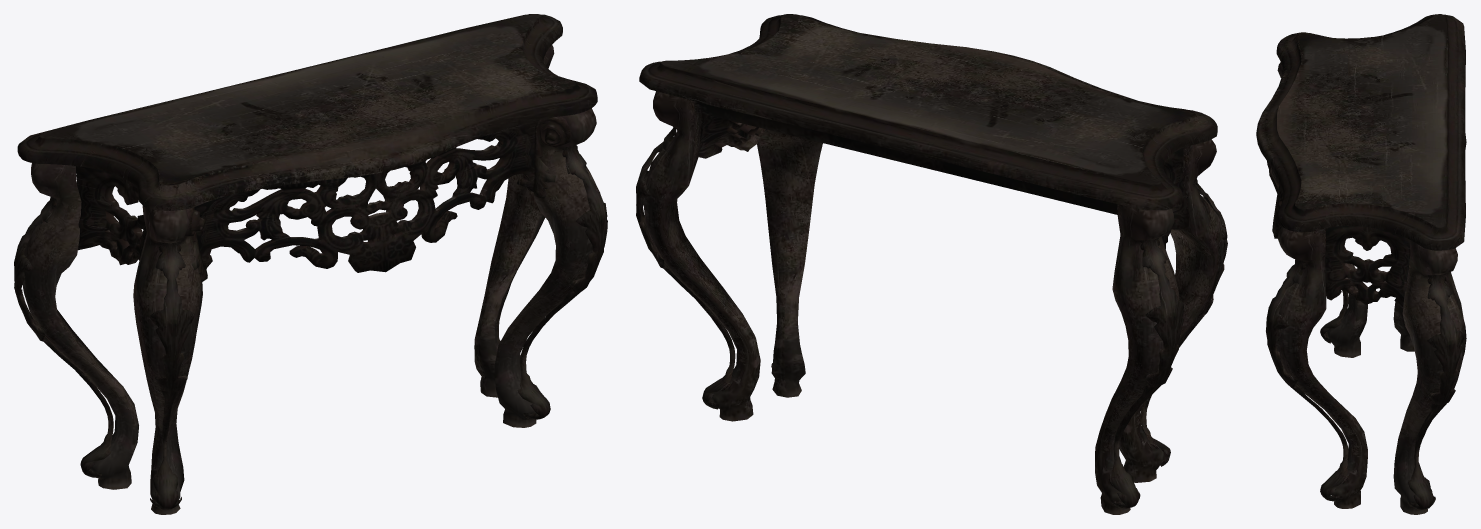
Rendered from ClassicConsole_01.glb.
The picture shows the model from 3 angles, left to right: view 1: azimuth 30°, elevation 25°; view 2: azimuth 150°, elevation 25°; view 3: azimuth 270°, elevation 25°; orthographic projection. The views are drawn at different scales.
Parts seen in each view (by area): view 1: ClassicConsole_01; view 2: ClassicConsole_01; view 3: ClassicConsole_01.
Part boxes in pixels (box(x1,y1,x2,y2)): ClassicConsole_01: box(14, 14, 607, 514); ClassicConsole_01: box(636, 14, 1227, 514); ClassicConsole_01: box(1256, 14, 1466, 514).
Size of the model in its own units: 1.54 by 0.9491 by 0.5893.
Materials: 1 (1 with a texture image).
